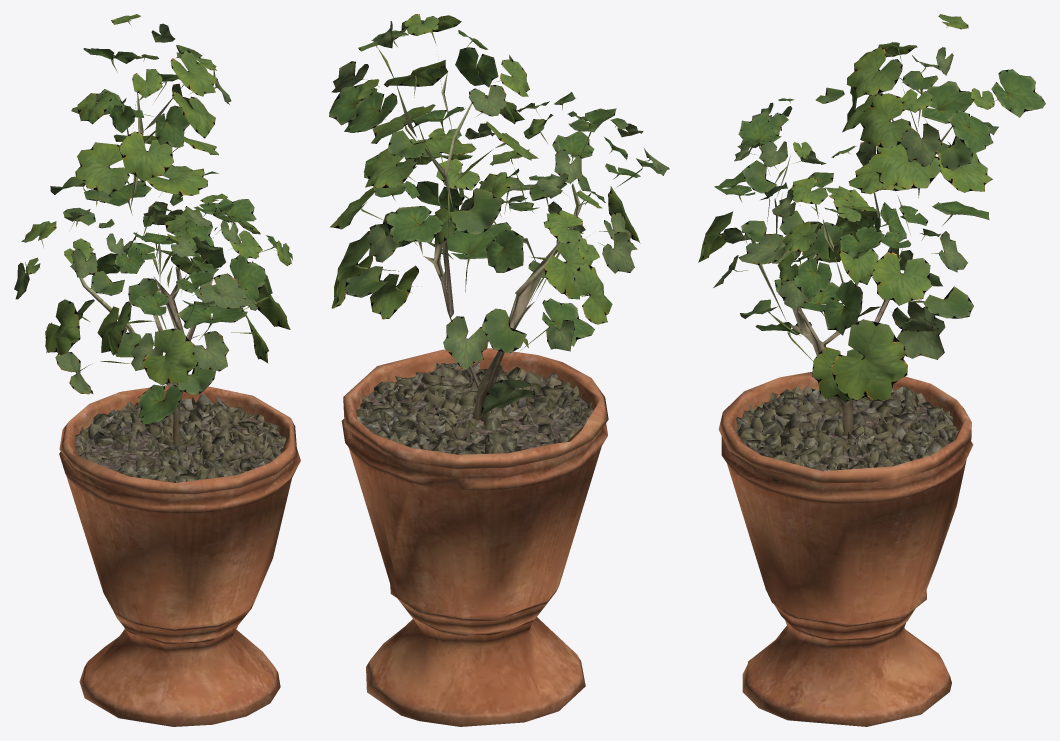
File: plant01.glb
3 renders of one model, left to right at view 1: azimuth 30°, elevation 25°; view 2: azimuth 150°, elevation 25°; view 3: azimuth 270°, elevation 25°, orthographic. The views are drawn at different scales.
Visible parts, largest first — view 1: potted_plant_01_stem, potted_plant_01_leaves; view 2: potted_plant_01_stem, potted_plant_01_leaves; view 3: potted_plant_01_stem, potted_plant_01_leaves.
Boxes of the visible parts, x1=… form: potted_plant_01_stem: x1=59, y1=92, x2=300, y2=726; potted_plant_01_leaves: x1=14, y1=14, x2=292, y2=424; potted_plant_01_stem: x1=341, y1=72, x2=608, y2=726; potted_plant_01_leaves: x1=329, y1=14, x2=669, y2=414; potted_plant_01_stem: x1=718, y1=89, x2=973, y2=726; potted_plant_01_leaves: x1=698, y1=14, x2=1045, y2=401.
Size of the model in its own units: 0.5866 by 1.33 by 0.6336.
2 materials, 2 textured.
